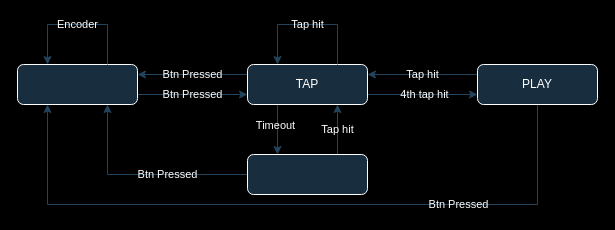
Image size: 615x230. Some labels were removed from this diagram. The shapes that lost their labels are listed below. From the top down, each one's centre as x and y in pixels, then its label:
At point (77, 84): "SETTINGS".
At point (307, 174): "SLEEP".
